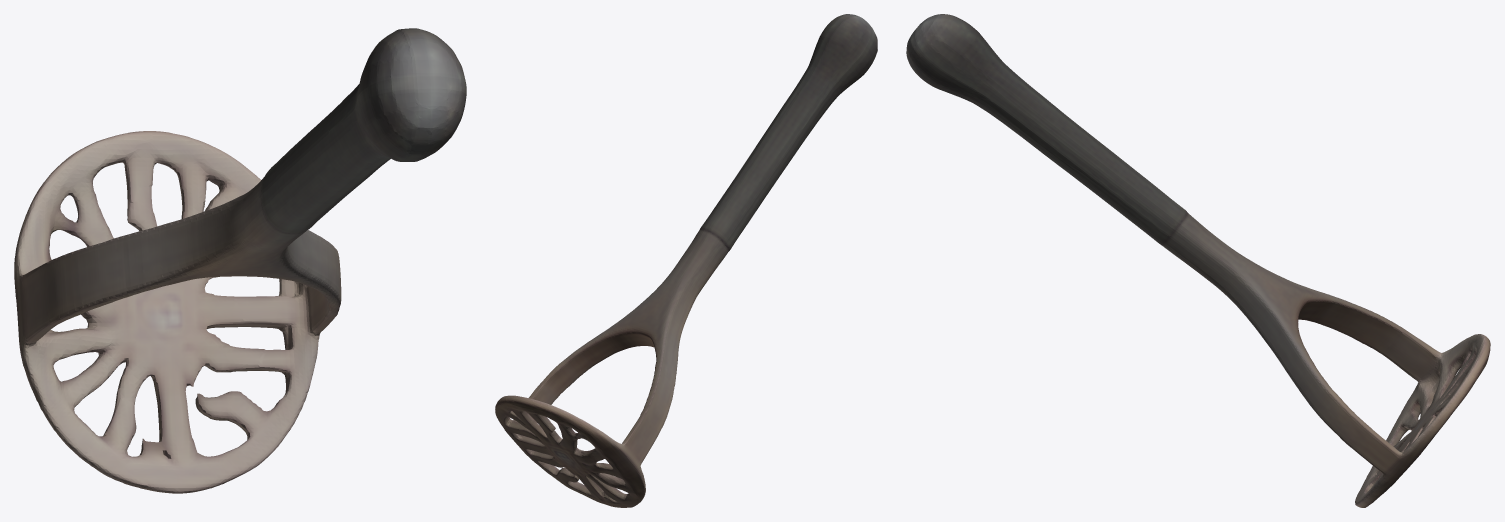
Rendered from frame_0076_source_000076_object.glb.
3 renders of one model, left to right at view 1: azimuth 30°, elevation 25°; view 2: azimuth 150°, elevation 25°; view 3: azimuth 270°, elevation 25°, orthographic. The views are drawn at different scales.
Visible parts, largest first — view 1: world; view 2: world; view 3: world.
Boxes of the visible parts, bbox=[...] form: world: bbox=[14, 28, 466, 493]; world: bbox=[495, 14, 877, 507]; world: bbox=[906, 14, 1490, 507].
Size of the model in its own units: 0.089 by 0.1893 by 0.2263.
